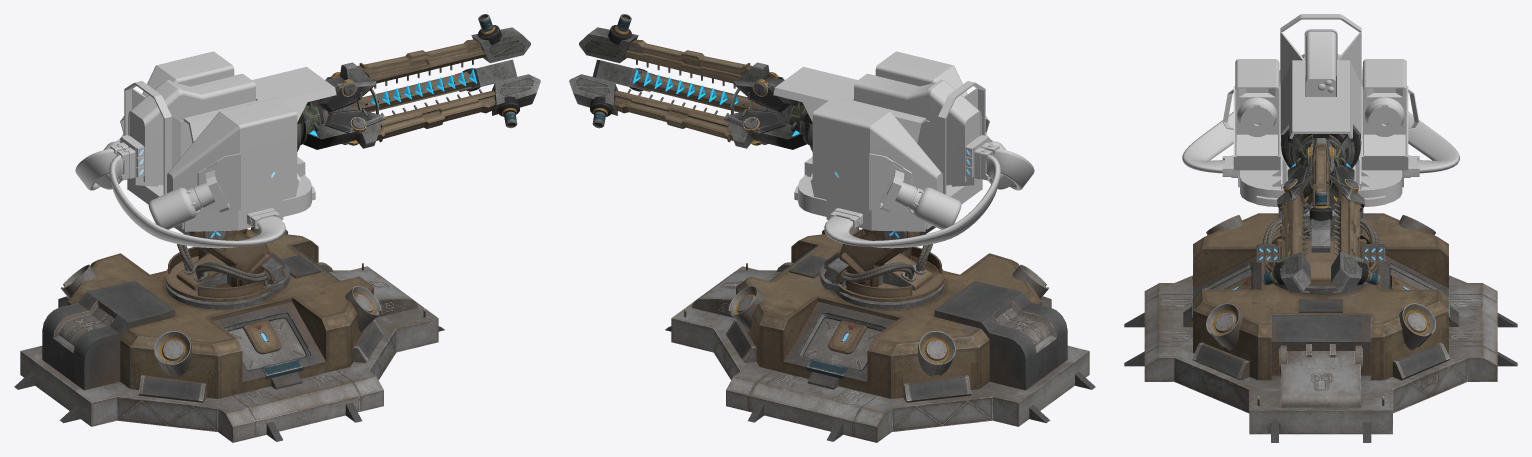
File: Turret.fbx
The picture shows the model from 3 angles, left to right: view 1: azimuth 30°, elevation 25°; view 2: azimuth 150°, elevation 25°; view 3: azimuth 270°, elevation 25°; orthographic projection.
Visible parts, largest first — view 1: polySurface28_low, polySurface1_low, polySurface79_low, polySurface70_low, polySurface27_low, polySurface85_low, polySurface114_low, polySurface5_low, polySurface8_low, polySurface76_low, polySurface76_low1, polySurface64_low (+25 smaller); view 2: polySurface28_low, polySurface1_low, polySurface79_low, polySurface70_low, polySurface27_low, polySurface85_low, polySurface114_low, polySurface5_low, polySurface8_low, polySurface76_low, polySurface76_low2, polySurface64_low (+25 smaller); view 3: polySurface28_low, polySurface1_low, polySurface114_low, polySurface53_low, polySurface2_low, polySurface85_low, polySurface27_low, polySurface79_low, polySurface64_low, polySurface4_low, polySurface58_low, polySurface108_low (+24 smaller).
Boxes of the visible parts, x1=… form: polySurface28_low: x1=68, y1=229, x2=373, y2=398; polySurface1_low: x1=20, y1=266, x2=438, y2=442; polySurface79_low: x1=120, y1=51, x2=297, y2=192; polySurface70_low: x1=42, y1=281, x2=175, y2=390; polySurface27_low: x1=75, y1=148, x2=285, y2=248; polySurface85_low: x1=197, y1=153, x2=299, y2=210; polySurface114_low: x1=183, y1=66, x2=336, y2=142; polySurface5_low: x1=129, y1=73, x2=255, y2=185; polySurface8_low: x1=128, y1=79, x2=183, y2=181; polySurface76_low: x1=357, y1=39, x2=485, y2=83; polySurface76_low1: x1=376, y1=90, x2=495, y2=142; polySurface64_low: x1=61, y1=227, x2=381, y2=376; polySurface28_low: x1=736, y1=229, x2=1041, y2=398; polySurface1_low: x1=671, y1=266, x2=1089, y2=442; polySurface79_low: x1=812, y1=51, x2=989, y2=192; polySurface70_low: x1=934, y1=281, x2=1067, y2=390; polySurface27_low: x1=824, y1=148, x2=1034, y2=248; polySurface85_low: x1=810, y1=153, x2=912, y2=210; polySurface114_low: x1=773, y1=66, x2=926, y2=142; polySurface5_low: x1=854, y1=73, x2=980, y2=185; polySurface8_low: x1=926, y1=79, x2=981, y2=181; polySurface76_low: x1=624, y1=39, x2=752, y2=83; polySurface76_low2: x1=614, y1=90, x2=733, y2=142; polySurface64_low: x1=728, y1=227, x2=1048, y2=376; polySurface28_low: x1=1193, y1=213, x2=1448, y2=380; polySurface1_low: x1=1144, y1=275, x2=1497, y2=434; polySurface114_low: x1=1280, y1=60, x2=1361, y2=138; polySurface53_low: x1=1281, y1=351, x2=1360, y2=407; polySurface2_low: x1=1271, y1=315, x2=1370, y2=375; polySurface85_low: x1=1233, y1=83, x2=1408, y2=170; polySurface27_low: x1=1182, y1=54, x2=1459, y2=173; polySurface79_low: x1=1235, y1=59, x2=1406, y2=155; polySurface64_low: x1=1206, y1=215, x2=1435, y2=350; polySurface4_low: x1=1240, y1=145, x2=1402, y2=203; polySurface58_low: x1=1192, y1=276, x2=1449, y2=380; polySurface108_low: x1=1240, y1=103, x2=1401, y2=136.
Bounding box in the file's own units: 17457 × 9906 × 12060.
